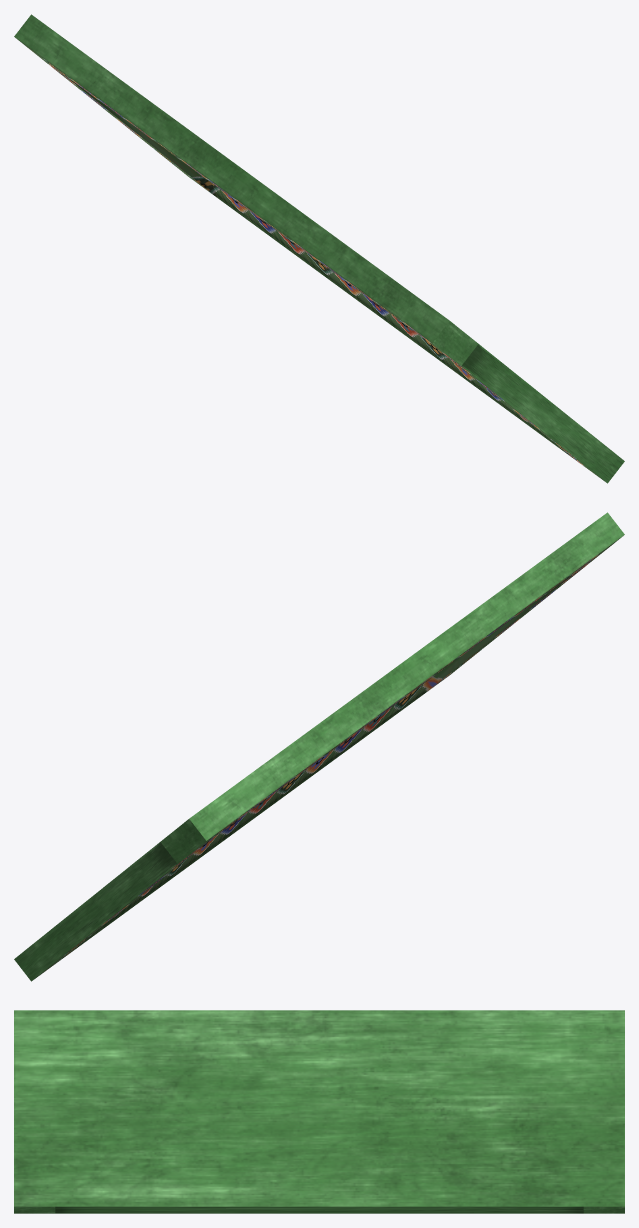
Rendered from SM_R_Sign_4.fbx.
3 views of the same model, one above another, from view 1: azimuth 30°, elevation 25°; view 2: azimuth 150°, elevation 25°; view 3: azimuth 270°, elevation 25° (orthographic). The views are drawn at different scales.
Visible parts, largest first — view 1: SM_R_Sign_4; view 2: SM_R_Sign_4; view 3: SM_R_Sign_4.
Boxes of the visible parts, x1,y1,x2,y2 form: SM_R_Sign_4: (14,14,624,483); SM_R_Sign_4: (14,512,624,981); SM_R_Sign_4: (14,1010,624,1213).
Bounding box in the file's own units: 13.03 × 49.05 × 13.03.
Materials: 1 (1 with a texture image).
